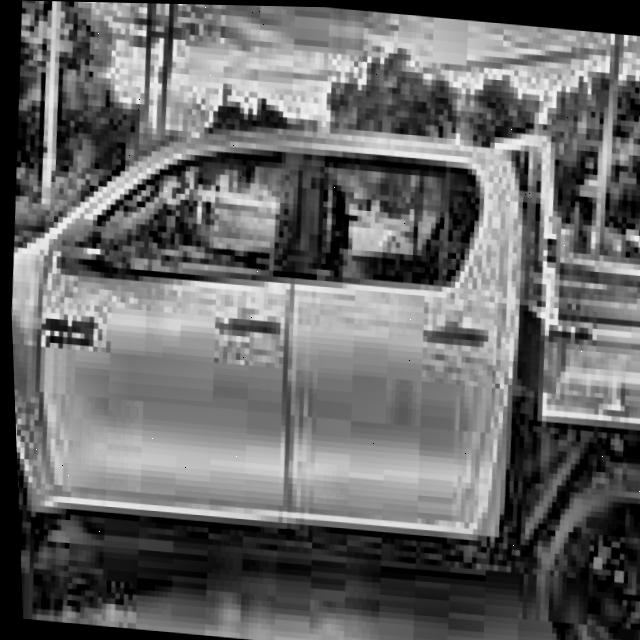light_vehicle: (2, 58, 640, 640)
